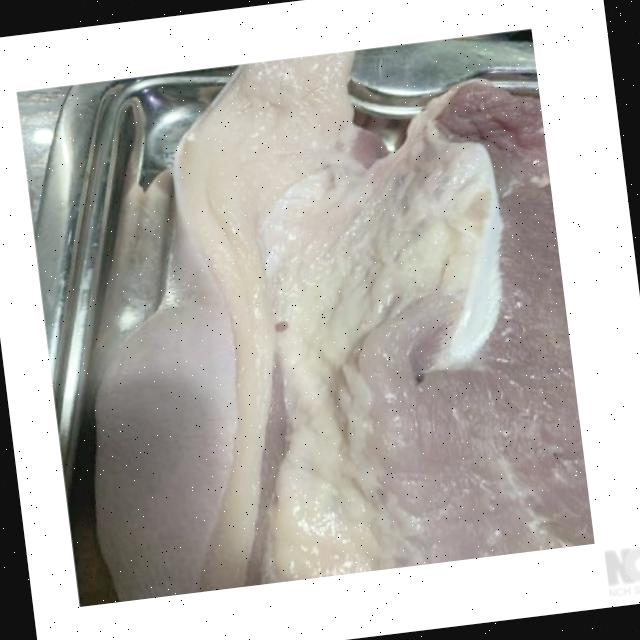rotten meat: (0, 7, 607, 617)
